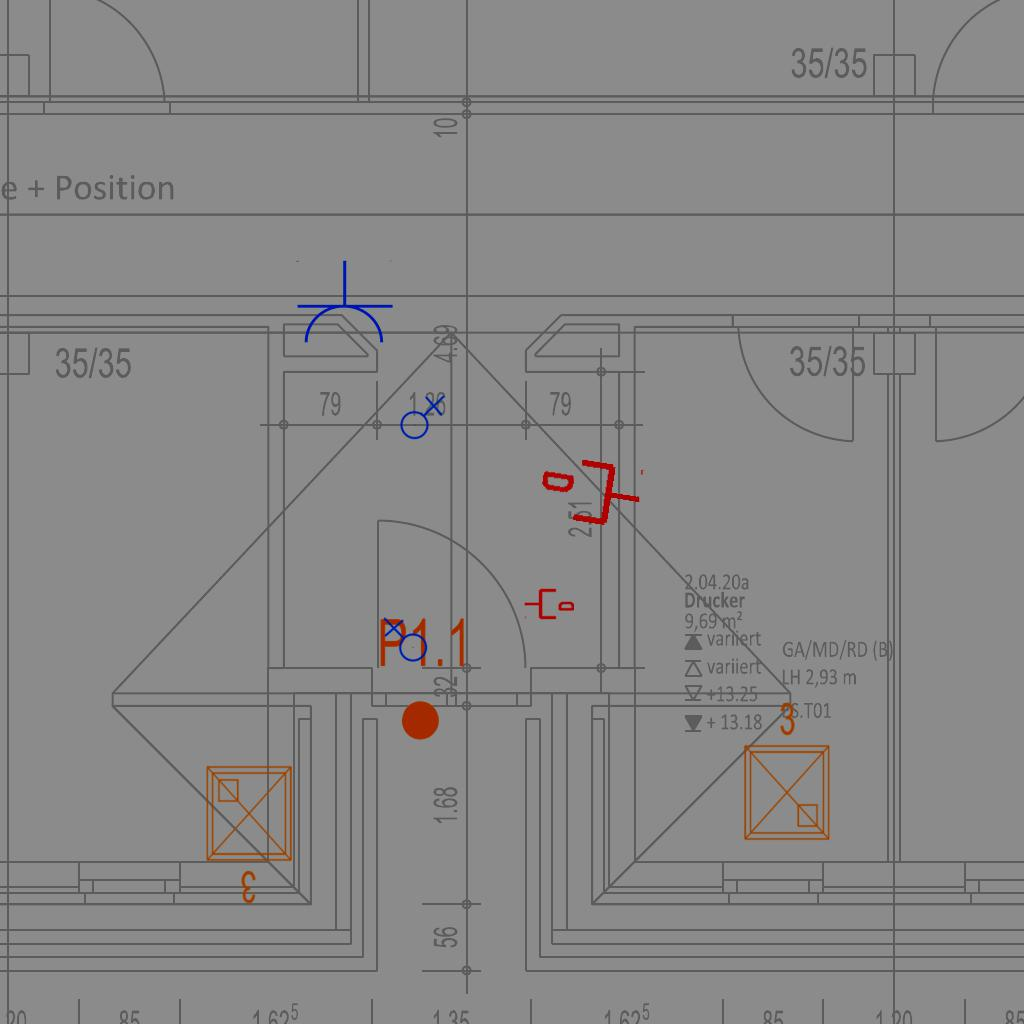Datenanschluss_einfach: (536, 450, 647, 534), (524, 587, 574, 621)
Downlight_LED_Einbauleuchten_Flur: (377, 615, 470, 743)
Einbaudownlights_LED_Konferenzraeume: (199, 759, 303, 909), (733, 697, 837, 847)
Elektroanschluss_allgemein_230V_Geraeteanschlussdose_230V: (396, 393, 445, 440), (381, 617, 428, 666)
Schukosteckdose_einfach: (294, 260, 394, 347)
